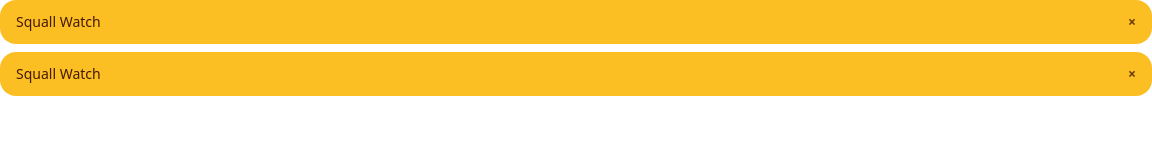
it: AlertBanner › dismisses only the clicked duplicate, not its same-headline sibling
What coordinates should you click on to do the following:
click the button named "Dismiss alert: Squall Watch"
I would click on:
 (1132, 22)
Its box is [1128,12,1136,32].
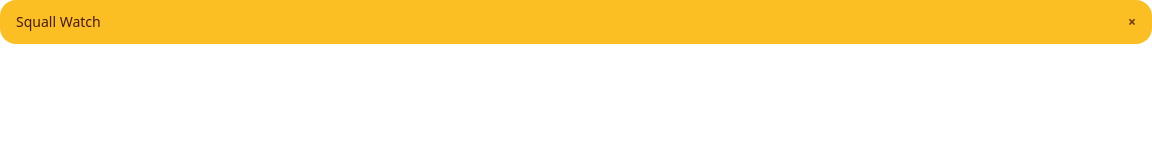
Check: the number of buttons "Squall Watch" is 1, box [16,12,1120,32]
